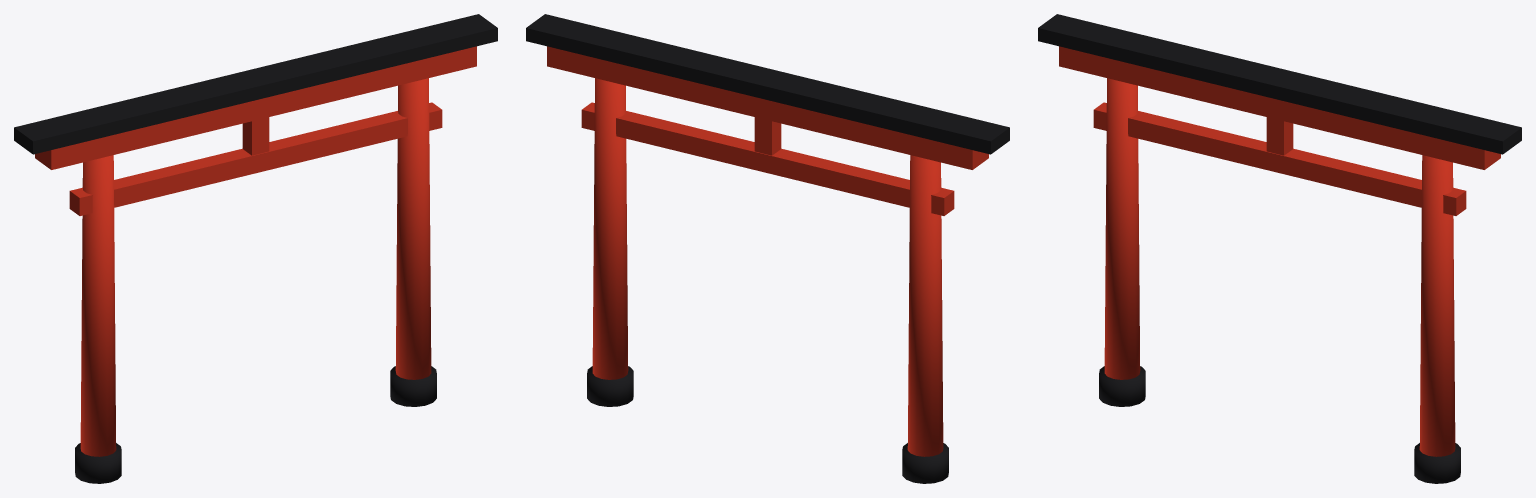
File: gate.glb
The picture shows the model from 3 angles, left to right: view 1: azimuth 30°, elevation 25°; view 2: azimuth 150°, elevation 25°; view 3: azimuth 330°, elevation 25°; orthographic projection.
Visible parts, largest first — view 1: GateMesh; view 2: GateMesh; view 3: GateMesh.
Part boxes in pixels (x1,y1,x2,y2): GateMesh: [14, 14, 497, 483]; GateMesh: [526, 14, 1009, 483]; GateMesh: [1038, 14, 1521, 483].
Size of the model in its own units: 5.9 by 4.34 by 0.52.
